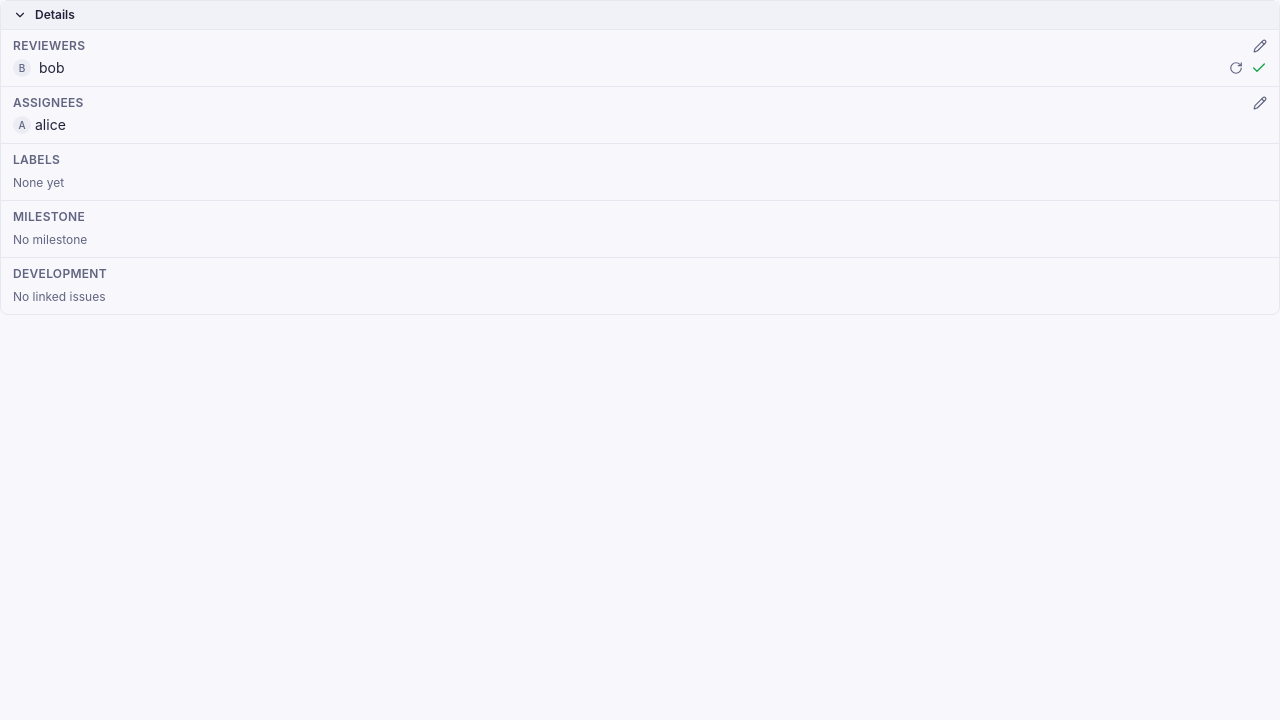
Test: PrDetailsCard reviewers/assignees editing (#334) › A3b: checks exactly current assignees, leaving a non-assignee reviewer unchecked
Click the button named "edit assignees": (1260, 103) [1253,96,1267,110]
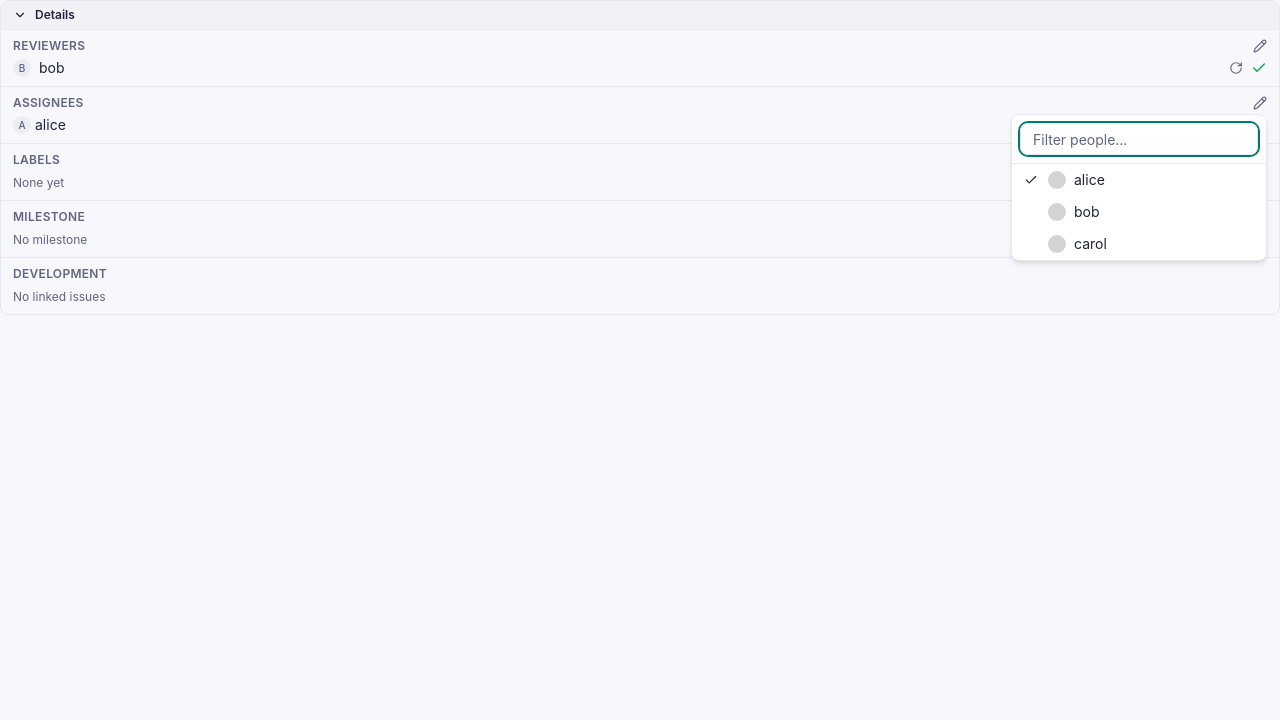
Now the text "alice" is shown, box [1074,171,1105,188]
